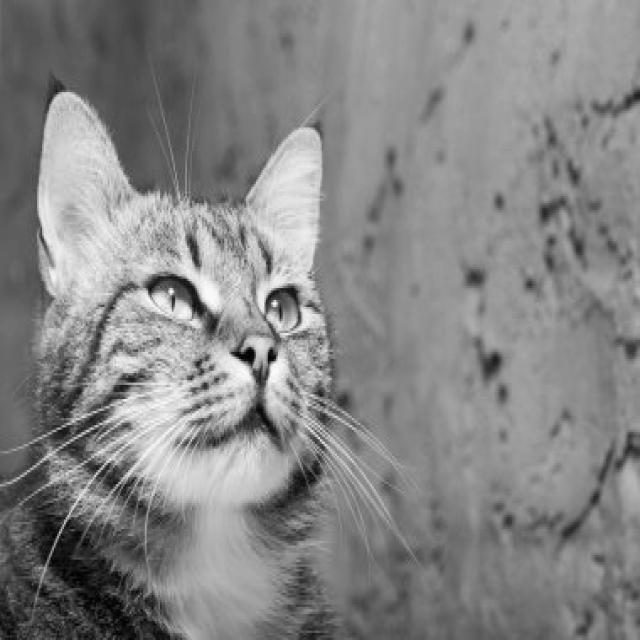Animal: (0, 93, 336, 637)
